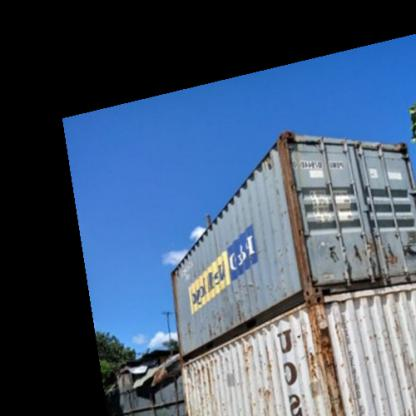Damage: (292, 324, 348, 415), (389, 306, 415, 386), (185, 362, 224, 412), (261, 342, 280, 411), (203, 304, 242, 336), (268, 249, 292, 299), (235, 341, 258, 376), (267, 180, 286, 218), (233, 276, 258, 296), (364, 384, 384, 401), (367, 330, 386, 344), (182, 317, 192, 340), (360, 348, 372, 366)
